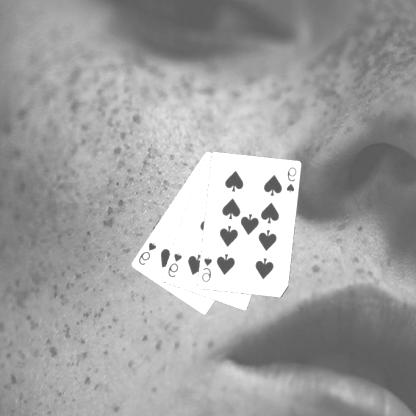6S: (137, 239, 159, 266), (166, 250, 185, 279)
9S: (200, 254, 214, 284), (285, 165, 299, 194)
